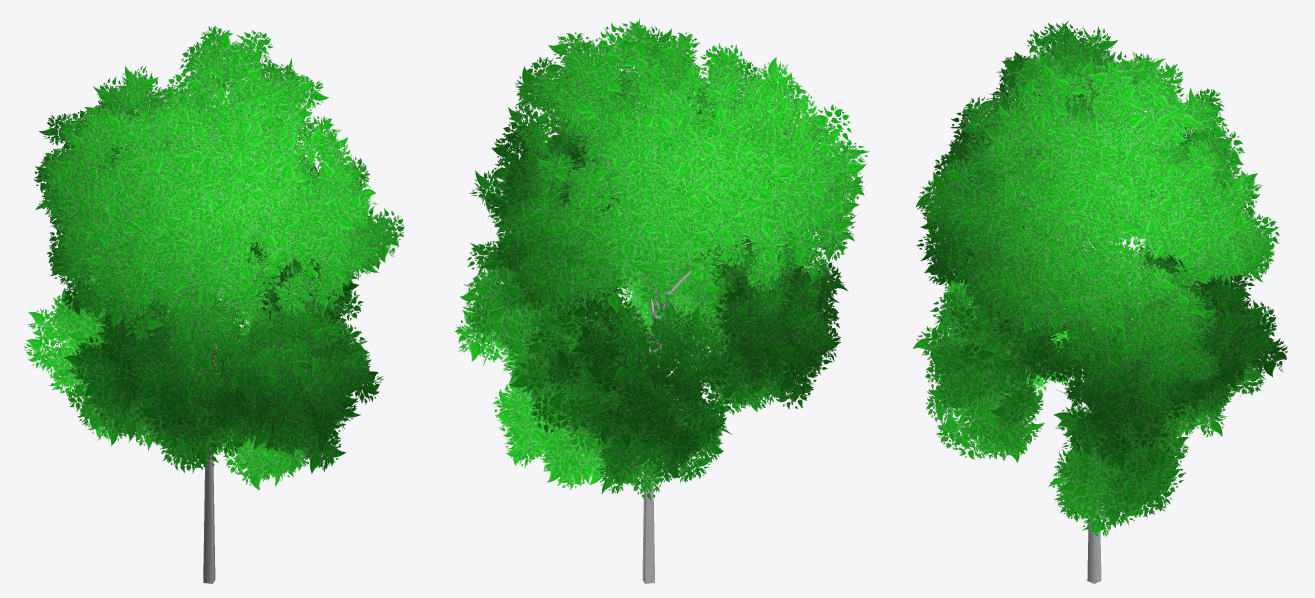
Rendered from Tree1.fbx.
3 views of the same model, side by side, from view 1: azimuth 30°, elevation 25°; view 2: azimuth 150°, elevation 25°; view 3: azimuth 270°, elevation 25° (orthographic). The views are drawn at different scales.
Parts seen in each view (by area): view 1: tree; view 2: tree; view 3: tree.
Boxes of the visible parts, <box> form: tree: <box>23,26,404,583</box>; tree: <box>455,18,869,583</box>; tree: <box>913,21,1287,583</box>.
Size of the model in its own units: 5.82 by 5.67 by 8.56.
